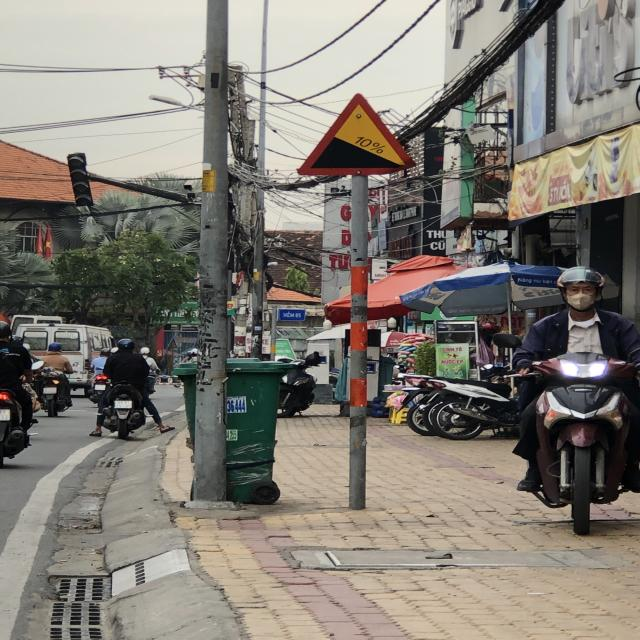Bien bao doc xuong nguy hiem: (290, 90, 423, 178)
